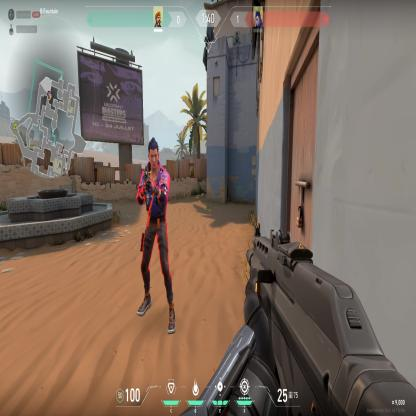enemy: (135, 135, 179, 338)
